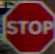Stop: (2, 5, 53, 45)
